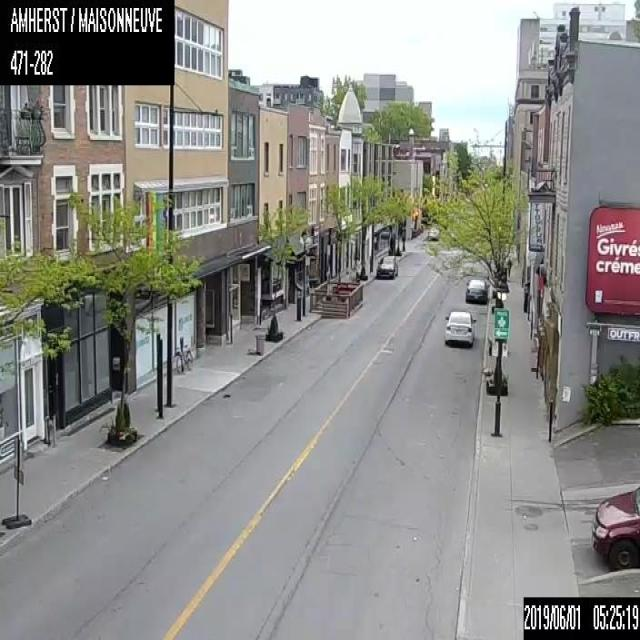pedestrian: (506, 258, 513, 278)
vehicle: (592, 483, 639, 570), (444, 308, 474, 345), (465, 277, 487, 304), (376, 253, 398, 279), (427, 225, 438, 240)
